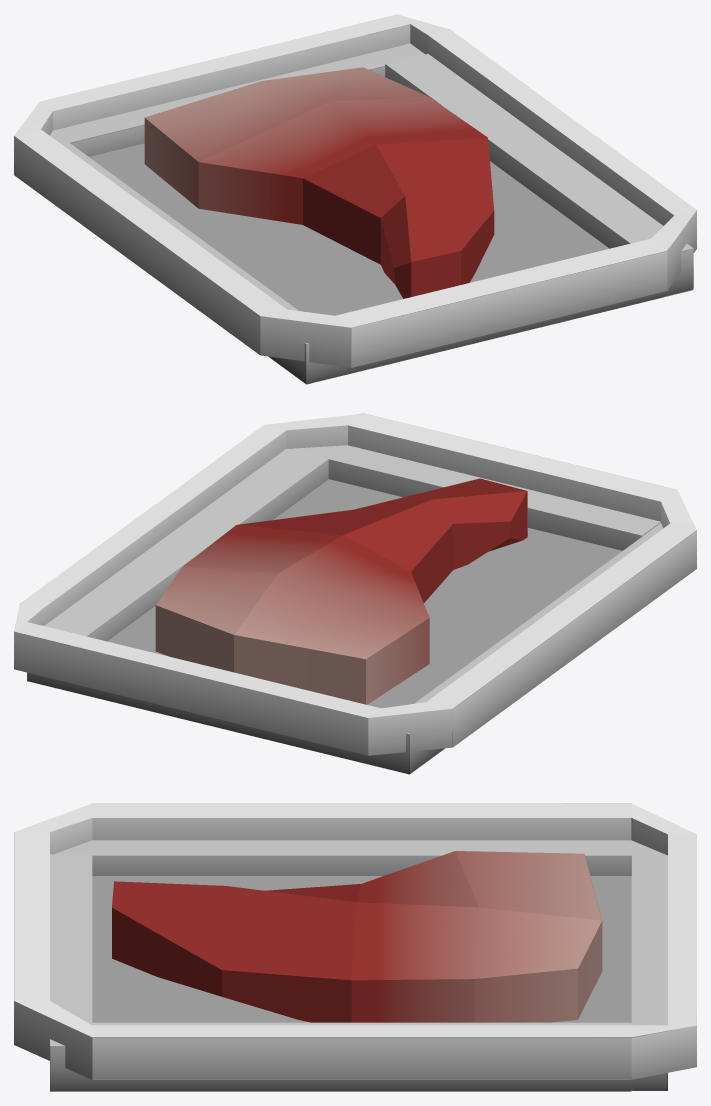
The model's file is Wagyu.glb.
The picture shows the model from 3 angles, top to bottom: view 1: azimuth 30°, elevation 25°; view 2: azimuth 150°, elevation 25°; view 3: azimuth 270°, elevation 25°; orthographic projection. The views are drawn at different scales.
Visible parts, largest first — view 1: Cube, Plane; view 2: Cube, Plane; view 3: Cube, Plane.
Part boxes in pixels (bbox=[...]): Cube: bbox=[14, 14, 696, 384]; Plane: bbox=[144, 67, 494, 298]; Cube: bbox=[14, 413, 696, 774]; Plane: bbox=[155, 478, 527, 704]; Cube: bbox=[14, 803, 696, 1091]; Plane: bbox=[112, 851, 602, 1022].
Bounding box in the file's own units: 2.05 × 0.3862 × 2.53.
2 materials, 2 textured.
